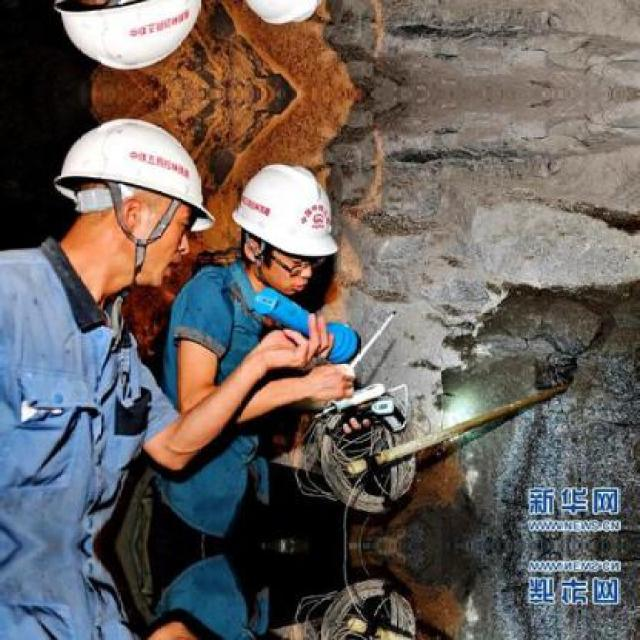helmet: (46, 103, 215, 275), (223, 154, 346, 301), (46, 0, 217, 86), (223, 0, 348, 34)
